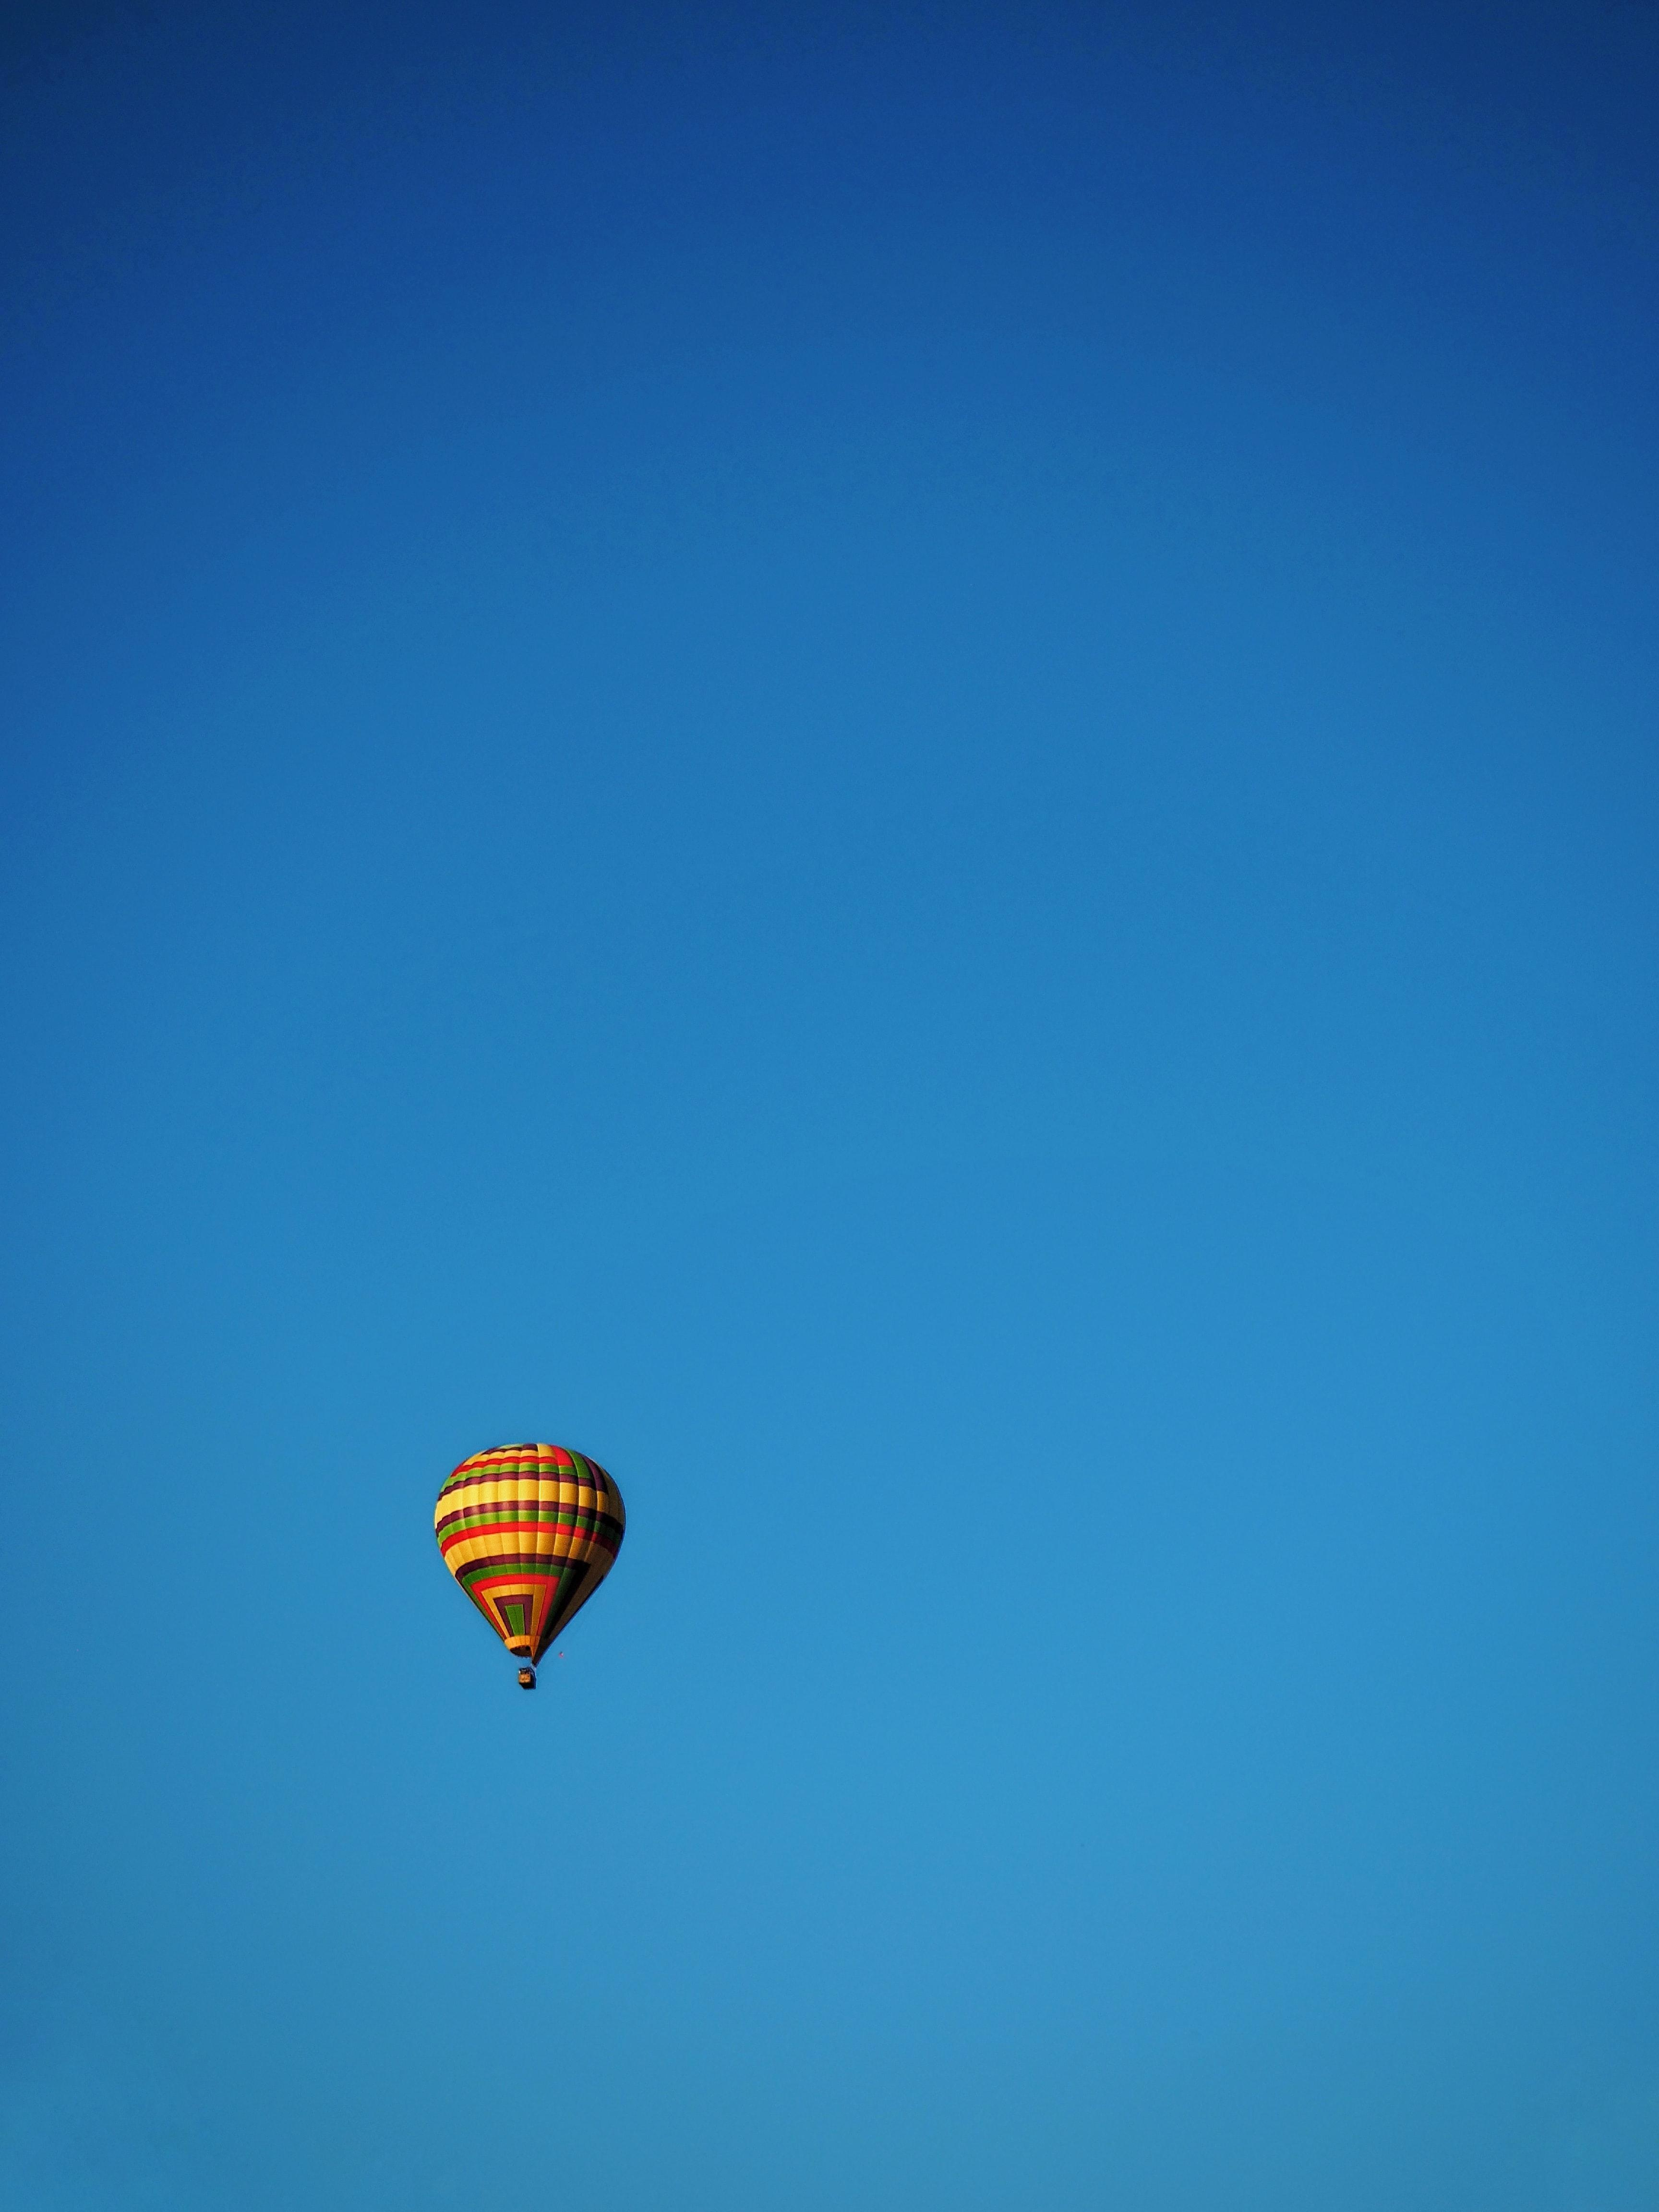hot air ballon: (434, 1430, 633, 1695)
